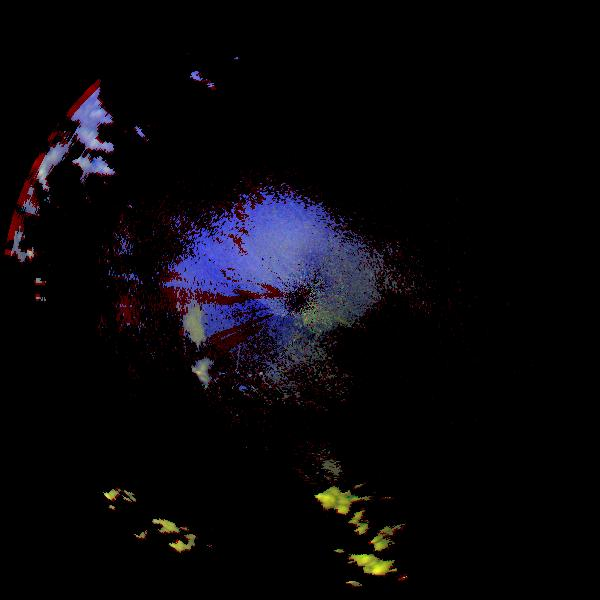roost: (92, 282, 245, 435)
